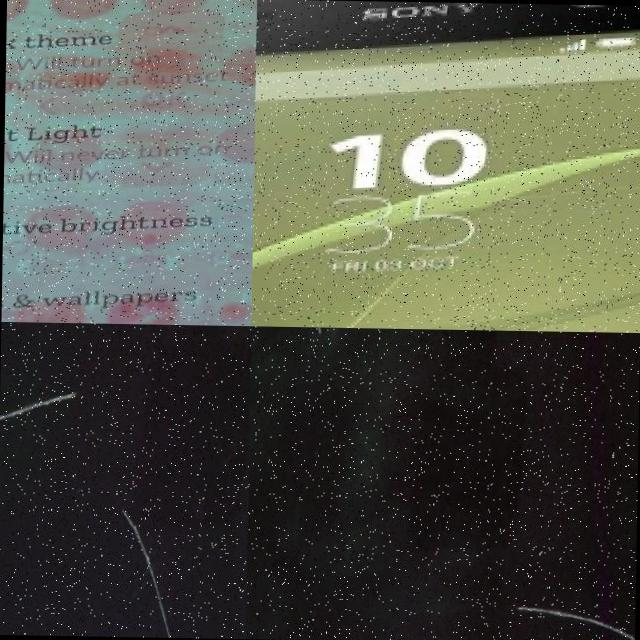scratch: (102, 502, 185, 638), (502, 585, 635, 640), (0, 381, 66, 435)
